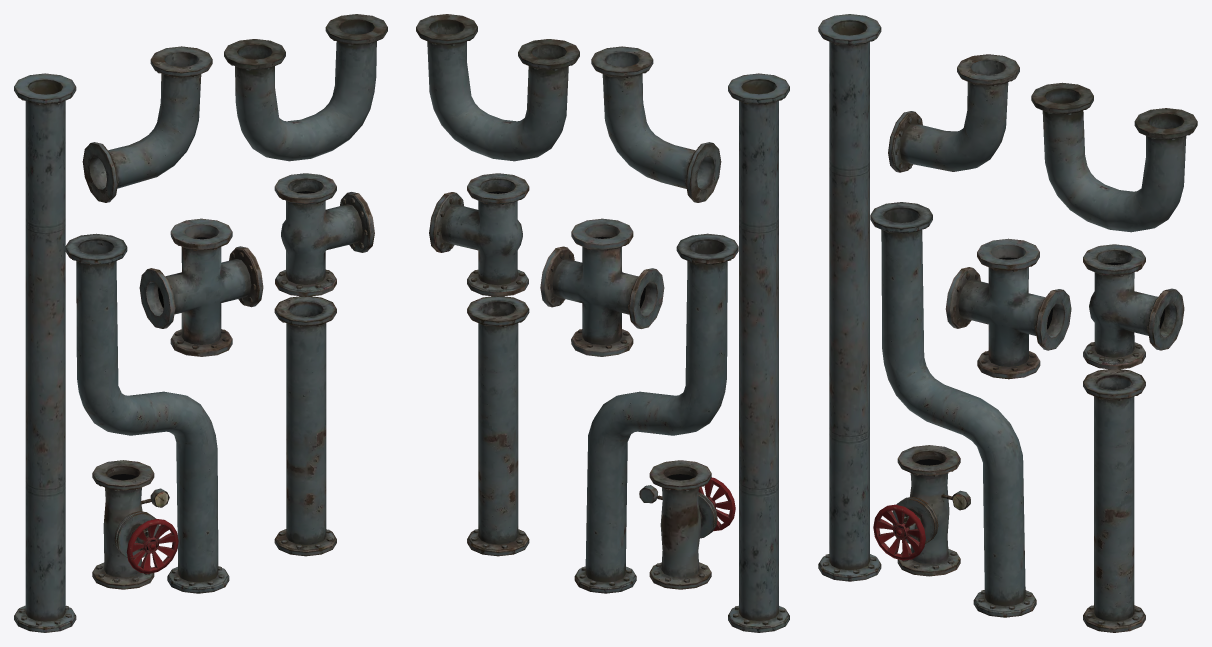
The model's file is modular_industrial_pipes_01.glb.
The picture shows the model from 3 angles, left to right: view 1: azimuth 30°, elevation 25°; view 2: azimuth 150°, elevation 25°; view 3: azimuth 330°, elevation 25°; orthographic projection.
Parts seen in each view (by area): view 1: modular_industrial_pipes_01_pipe01, modular_industrial_pipes_01_pipe05; view 2: modular_industrial_pipes_01_pipe01, modular_industrial_pipes_01_pipe05; view 3: modular_industrial_pipes_01_pipe01, modular_industrial_pipes_01_pipe05.
Part boxes in pixels (box(x1,y1,x2,y2)): modular_industrial_pipes_01_pipe01: box(14, 46, 336, 632); modular_industrial_pipes_01_pipe05: box(92, 14, 387, 589); modular_industrial_pipes_01_pipe01: box(467, 46, 789, 632); modular_industrial_pipes_01_pipe05: box(416, 14, 735, 589); modular_industrial_pipes_01_pipe01: box(818, 14, 1145, 632); modular_industrial_pipes_01_pipe05: box(873, 82, 1197, 576).
Bounding box in the file's own units: 1.4 × 1.95 × 0.3073.
2 materials, 2 textured.
